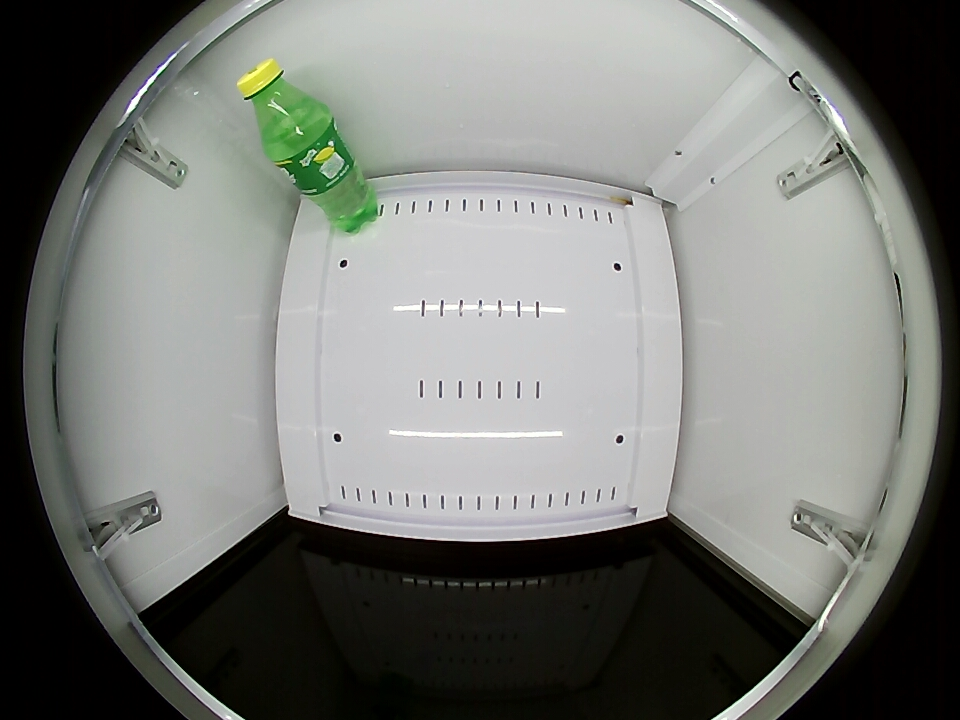xuebi-b: (237, 57, 327, 154)
